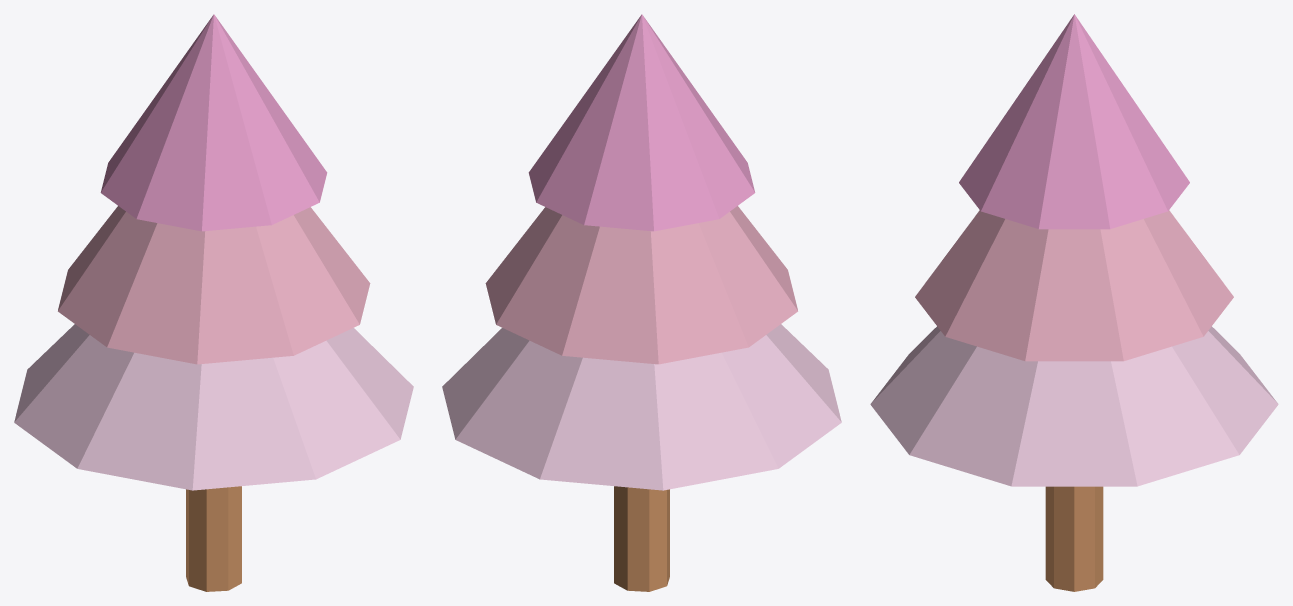
The model's file is pinetree 2_1.fbx.
3 renders of one model, left to right at view 1: azimuth 30°, elevation 25°; view 2: azimuth 150°, elevation 25°; view 3: azimuth 270°, elevation 25°, orthographic.
Visible parts, largest first — view 1: 锥体.003, 锥体.002, 锥体.001, 柱体.001; view 2: 锥体.003, 锥体.002, 锥体.001, 柱体.001; view 3: 锥体.003, 锥体.002, 锥体.001, 柱体.001.
Boxes of the visible parts, <box> form: 锥体.003: <box>14,324,413,490</box>; 锥体.002: <box>58,206,370,364</box>; 锥体.001: <box>100,14,327,231</box>; 柱体.001: <box>186,486,241,591</box>; 锥体.003: <box>442,324,841,490</box>; 锥体.002: <box>485,206,797,364</box>; 锥体.001: <box>528,14,755,231</box>; 柱体.001: <box>614,486,669,591</box>; 锥体.003: <box>870,326,1278,486</box>; 锥体.002: <box>915,210,1233,361</box>; 锥体.001: <box>959,14,1189,229</box>; 柱体.001: <box>1045,486,1103,591</box>.
Size of the model in its own units: 201 by 324 by 212.
